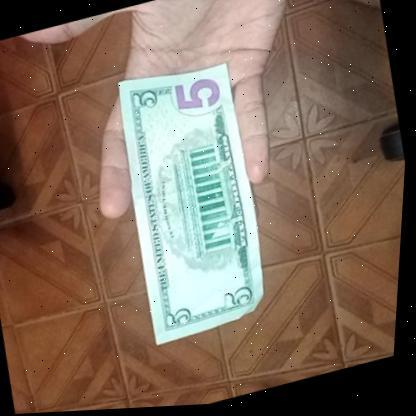dollar_back: (101, 48, 289, 350)
